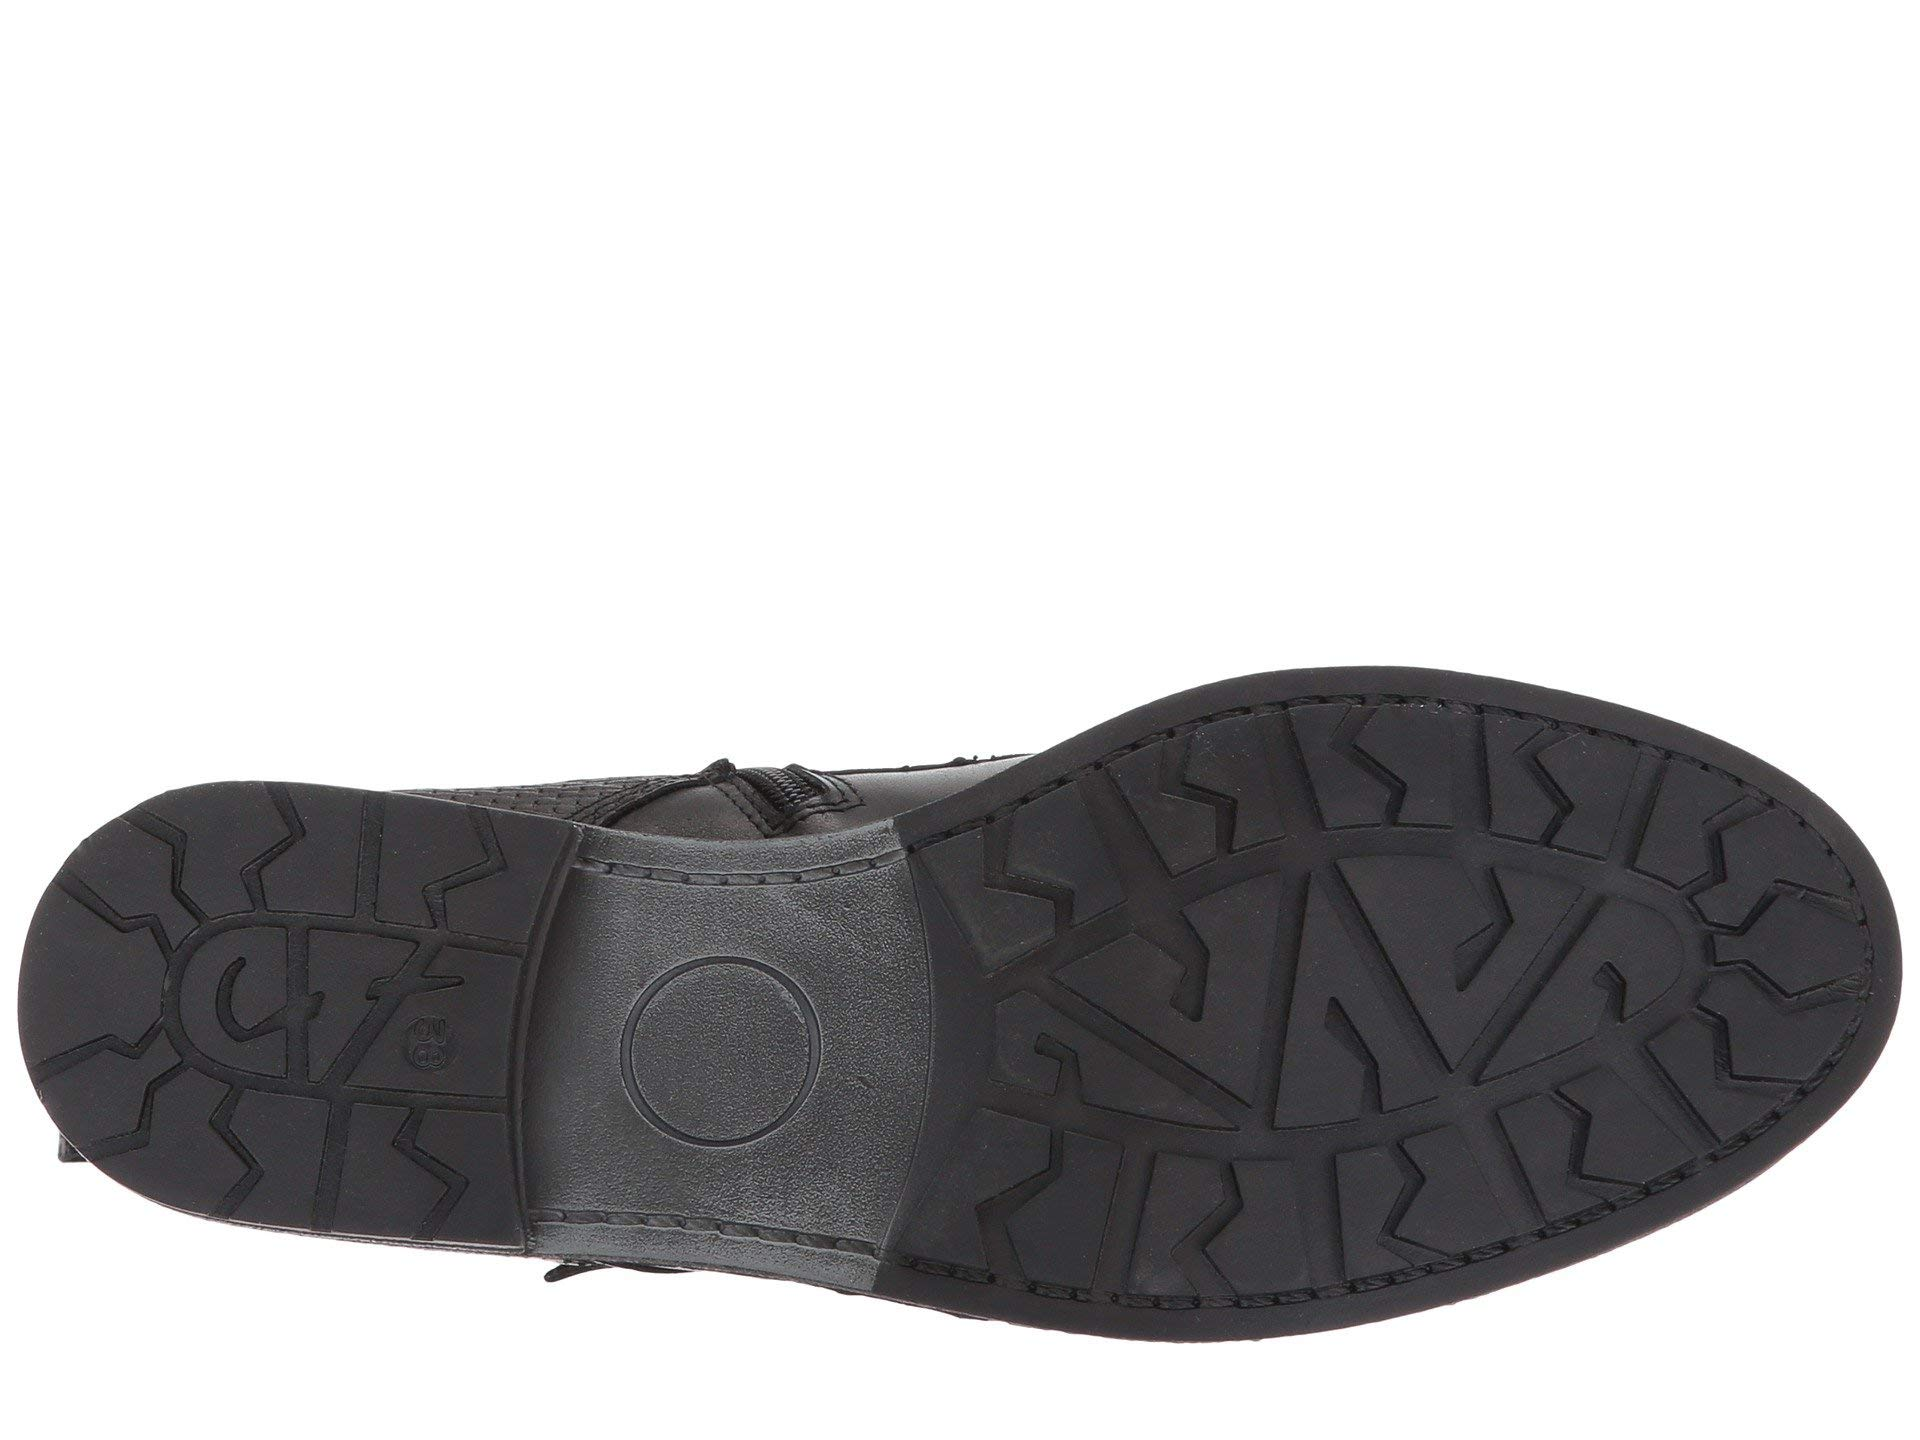circle: (585, 948, 856, 1168), (382, 1012, 466, 1078)
line: (587, 836, 895, 906)
other: (977, 781, 1795, 1221)
quad: (977, 781, 1795, 1221)
text: (382, 1012, 466, 1078)
triangle: (977, 781, 1795, 1221)
